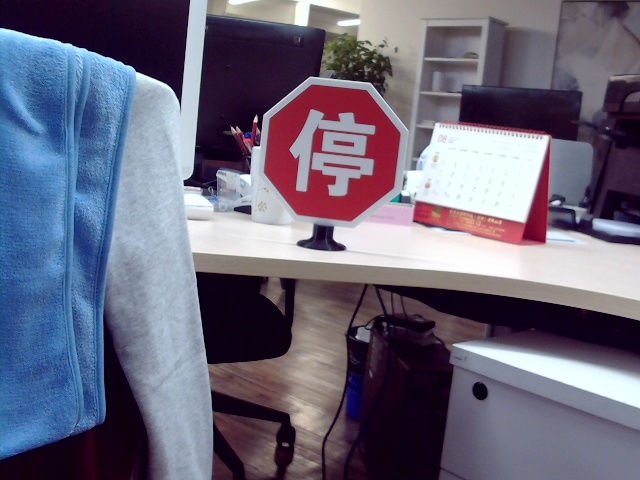stop: (289, 105, 376, 199)
